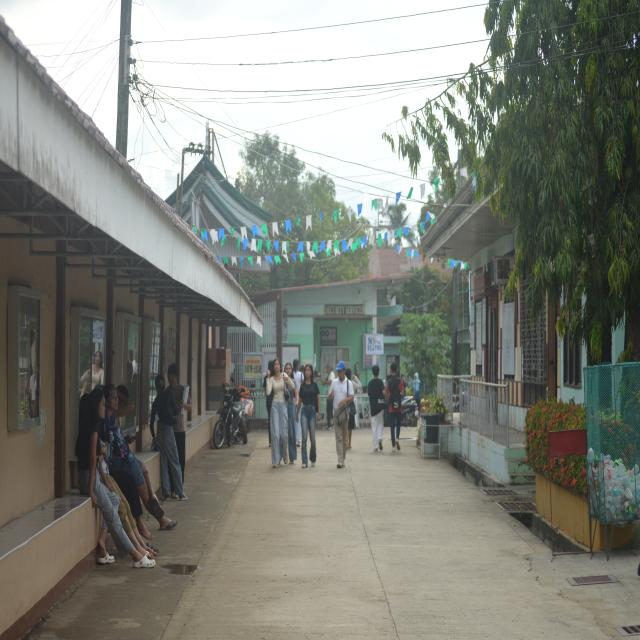person: (76, 389, 154, 567), (150, 375, 187, 500), (266, 358, 294, 467), (168, 364, 192, 486), (329, 361, 353, 468), (297, 364, 320, 467), (386, 363, 404, 451), (368, 365, 385, 451), (81, 351, 104, 397), (287, 389, 297, 464), (266, 392, 273, 446), (293, 359, 302, 388), (325, 399, 333, 429)
